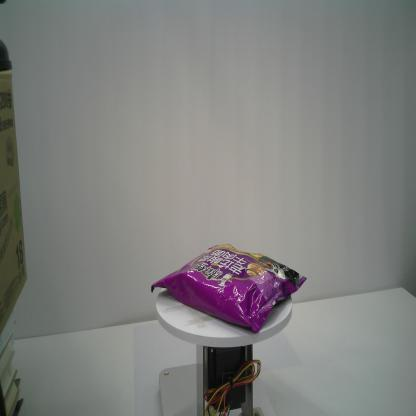Instant Noodles: (151, 242, 308, 335)
